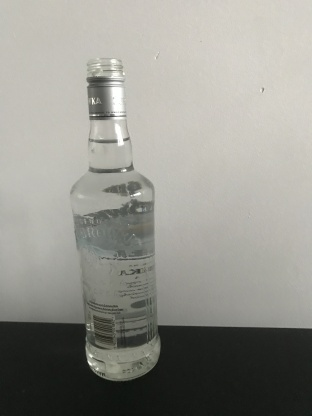nakretka: (84, 56, 128, 120)
